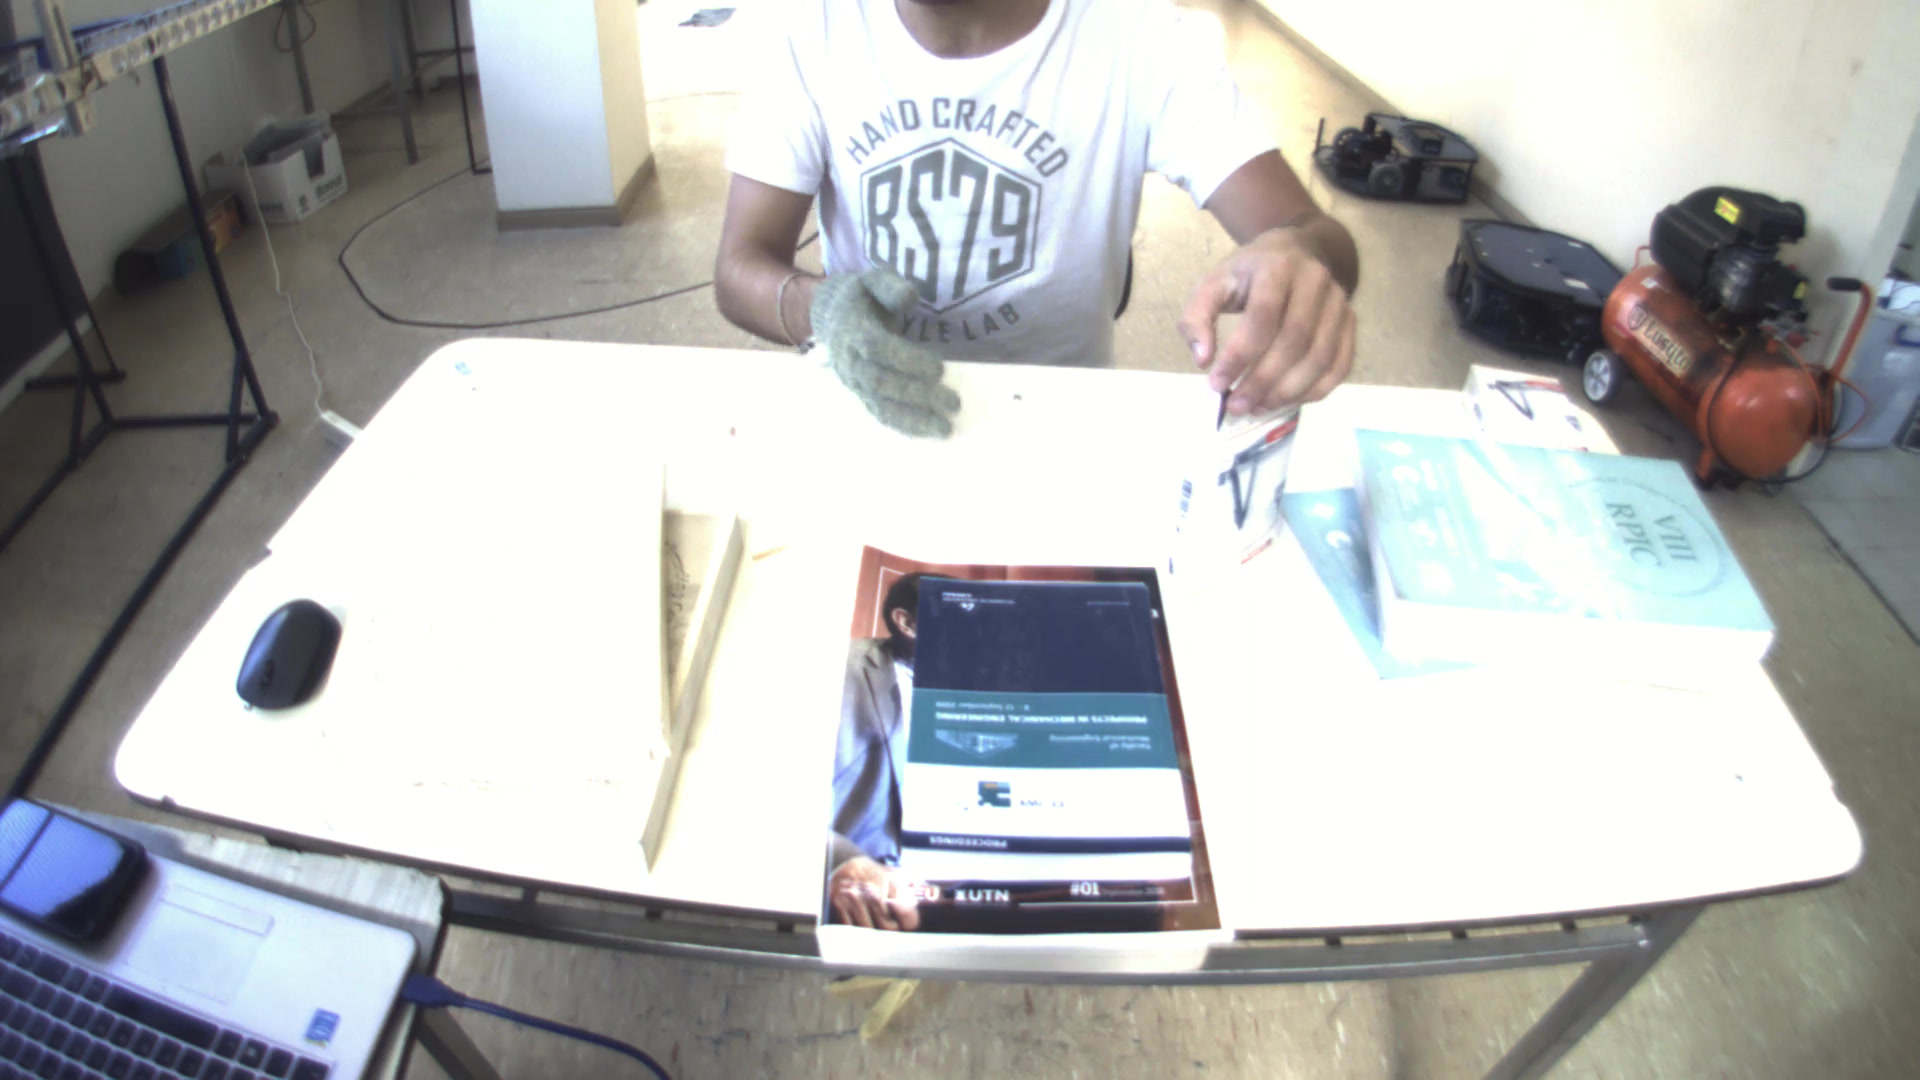hand: (1178, 228, 1371, 413), (802, 261, 973, 440)
